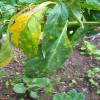Bell_pepper leaf spot: (7, 4, 46, 60), (23, 39, 72, 80), (40, 2, 69, 59), (70, 18, 88, 51)
